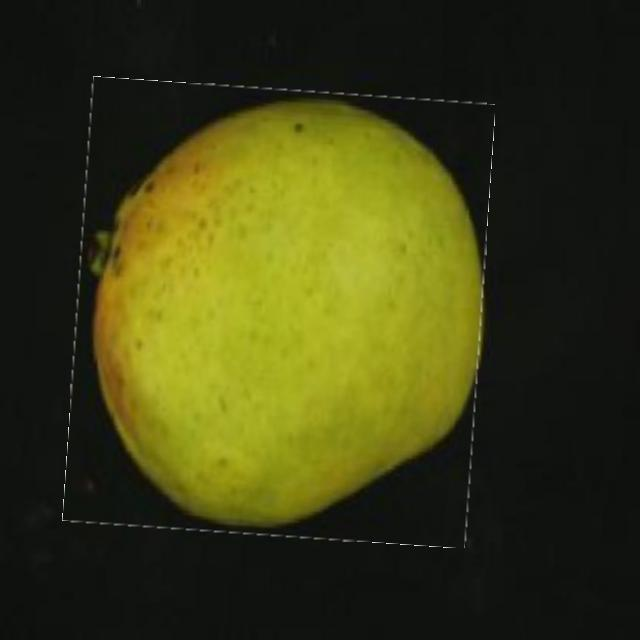mango: (70, 83, 487, 542)
